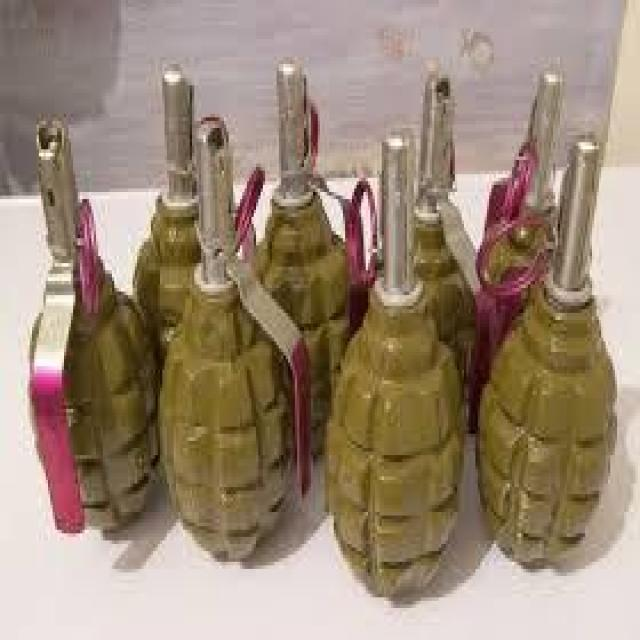grenade: (319, 129, 468, 603), (163, 110, 314, 574), (476, 130, 620, 576), (22, 108, 161, 542), (251, 52, 370, 470), (473, 65, 569, 438), (413, 67, 484, 355), (130, 66, 198, 364)
